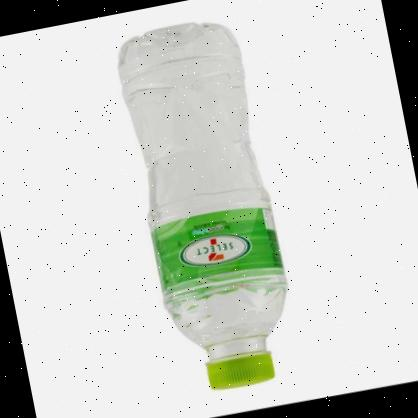bottle: (109, 12, 310, 401)
cap: (201, 342, 280, 395)
label: (148, 198, 286, 298)
